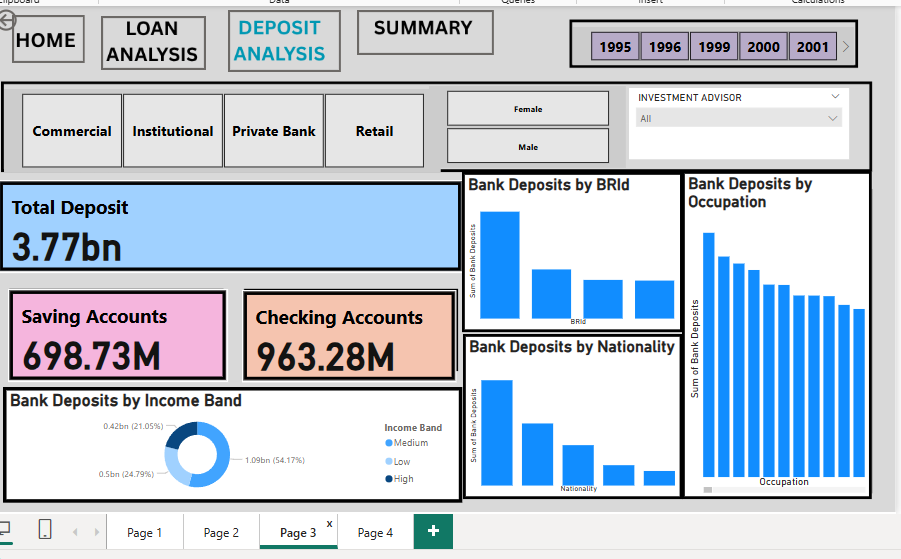

This screenshot's page, from the dashboard's own definition file:
{"tool":"powerbi","page":{"name":" Page 3","canvas":[1280,720],"ordinal":2},"visuals":[{"type":"slicer","fields":{"Values":["banking-clients.Year of Joinings"]},"box":[823.5,29.8,398.3,53.9],"z":0},{"type":"actionButton","box":[29.8,28.3,100.6,39.7],"z":1000},{"type":"cardVisual","fields":{"Data":["banking-clients.Total Deposit"]},"box":[8.5,246.6,659.1,131.8],"z":2000},{"type":"cardVisual","fields":{"Data":["Sum(banking-clients.Saving Accounts)"]},"box":[22.7,401.1,311.8,131.8],"z":3000},{"type":"cardVisual","fields":{"Data":["Sum(banking-clients.Checking Accounts)"]},"box":[354.9,402.8,304.2,131],"z":4000},{"type":"donutChart","title":" Bank Deposits by Income Band","fields":{"Y":["Sum(banking-clients.Bank Deposits)"],"Category":["banking-clients.Income Band"]},"box":[15.6,540,650.6,164.4],"z":5000},{"type":"clusteredColumnChart","title":"Bank Deposits by BRId","fields":{"Category":["banking-clients.BRId"],"Y":["Sum(banking-clients.Bank Deposits)"]},"box":[666.2,235.2,312.7,226.8],"z":6000},{"type":"clusteredColumnChart","title":"Bank Deposits by Nationality","fields":{"Category":["banking-clients.Nationality"],"Y":["Sum(banking-clients.Bank Deposits)"]},"box":[667.6,464.8,311.3,233.8],"z":7000},{"type":"clusteredColumnChart","title":" Bank Deposits by Occupation","fields":{"Category":["banking-clients.Occupation"],"Y":["Sum(banking-clients.Bank Deposits)"]},"box":[977.5,233.8,269,464.8],"z":8000},{"type":"slicer","fields":{"Values":["banking-clients.IAId"]},"box":[902.8,116.2,311.8,100.6],"z":9000},{"type":"slicer","fields":{"Values":["banking-clients.BRId"]},"box":[17,117.6,619.4,117.6],"z":10000},{"type":"actionButton","box":[0,0,100,40],"z":11000},{"type":"slicer","fields":{"Values":["banking-clients.GenderId"]},"box":[619.4,113.4,279.2,116.2],"z":12000},{"type":"actionButton","box":[28.3,12.8,103.5,68],"z":13000},{"type":"actionButton","box":[154.5,14.2,148.8,76.5],"z":14000},{"type":"actionButton","box":[334.5,5.7,160.2,87.9],"z":15000},{"type":"actionButton","box":[517.3,5.7,194.2,63.8],"z":16000}]}

Visuals, with their boxes on the page's 1280x720 design canvas (x1, y1, x2, y2). These are canvas units, not pixel positions in the 901x559 screenshot, which may show the page scaled, cropped or inside an application window:
slicer - banking-clients.Year of Joinings: [x1=824, y1=30, x2=1222, y2=84]
actionButton: [x1=30, y1=28, x2=130, y2=68]
cardVisual - banking-clients.Total Deposit: [x1=8, y1=247, x2=668, y2=378]
cardVisual - Sum(banking-clients.Saving Accounts): [x1=23, y1=401, x2=334, y2=533]
cardVisual - Sum(banking-clients.Checking Accounts): [x1=355, y1=403, x2=659, y2=534]
" Bank Deposits by Income Band" donutChart: [x1=16, y1=540, x2=666, y2=704]
"Bank Deposits by BRId" clusteredColumnChart: [x1=666, y1=235, x2=979, y2=462]
"Bank Deposits by Nationality" clusteredColumnChart: [x1=668, y1=465, x2=979, y2=699]
" Bank Deposits by Occupation" clusteredColumnChart: [x1=978, y1=234, x2=1246, y2=699]
slicer - banking-clients.IAId: [x1=903, y1=116, x2=1215, y2=217]
slicer - banking-clients.BRId: [x1=17, y1=118, x2=636, y2=235]
actionButton: [x1=0, y1=0, x2=100, y2=40]
slicer - banking-clients.GenderId: [x1=619, y1=113, x2=899, y2=230]
actionButton: [x1=28, y1=13, x2=132, y2=81]
actionButton: [x1=154, y1=14, x2=303, y2=91]
actionButton: [x1=334, y1=6, x2=495, y2=94]
actionButton: [x1=517, y1=6, x2=712, y2=70]
